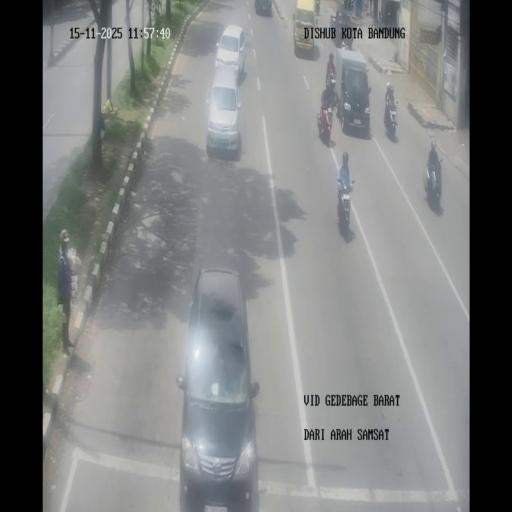car: (176, 267, 260, 506), (206, 67, 242, 158), (215, 24, 247, 84), (292, 0, 320, 56), (254, 0, 272, 16)
motorcycle: (423, 145, 443, 206), (337, 178, 355, 230), (317, 101, 334, 143), (384, 93, 398, 138), (326, 67, 336, 93), (333, 82, 340, 112), (340, 37, 348, 50), (343, 0, 352, 11), (314, 0, 320, 14), (378, 10, 383, 23)
truck: (334, 44, 370, 136)
